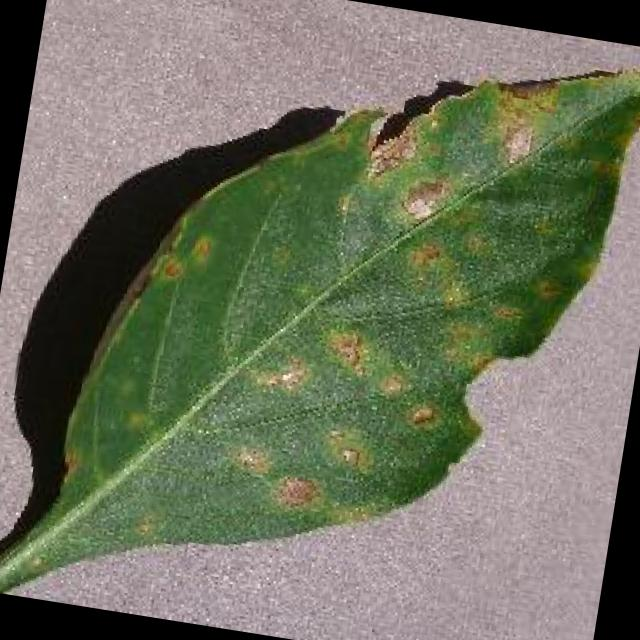Chilli_Bacterial_Spot: (0, 0, 640, 640), (213, 300, 457, 534), (360, 113, 424, 186), (394, 169, 456, 229), (316, 422, 378, 478), (250, 348, 314, 401), (317, 321, 374, 378), (267, 467, 323, 517), (494, 116, 538, 171), (225, 440, 277, 482), (402, 235, 446, 276), (371, 364, 411, 404), (526, 270, 568, 308), (114, 402, 154, 440), (402, 397, 441, 432), (184, 229, 217, 270), (152, 251, 188, 286), (332, 439, 366, 473)
